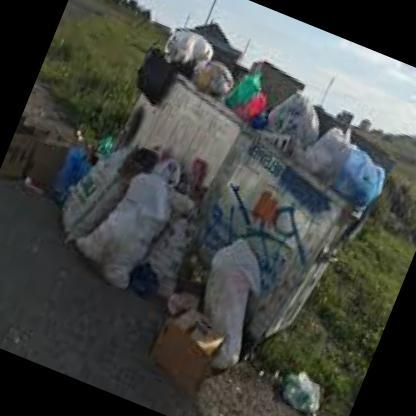Garbage: (57, 139, 188, 293), (172, 226, 282, 374), (110, 162, 214, 310), (47, 118, 156, 259), (0, 109, 77, 204), (318, 139, 401, 217), (40, 120, 104, 221), (258, 78, 326, 158), (146, 311, 220, 384), (294, 113, 360, 187), (144, 18, 218, 77), (122, 44, 185, 112), (211, 61, 267, 121), (182, 48, 240, 104), (268, 371, 324, 415), (142, 150, 186, 197), (232, 91, 269, 132), (130, 136, 161, 178), (182, 154, 214, 194)
